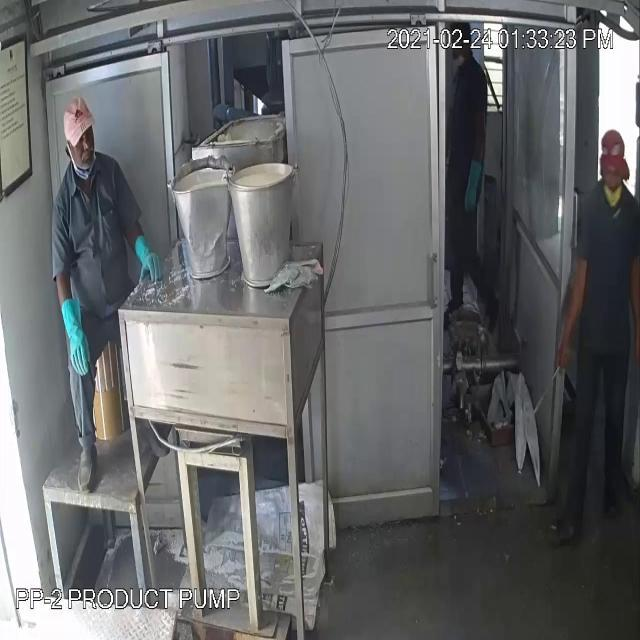hairnet: (447, 42, 470, 76)
